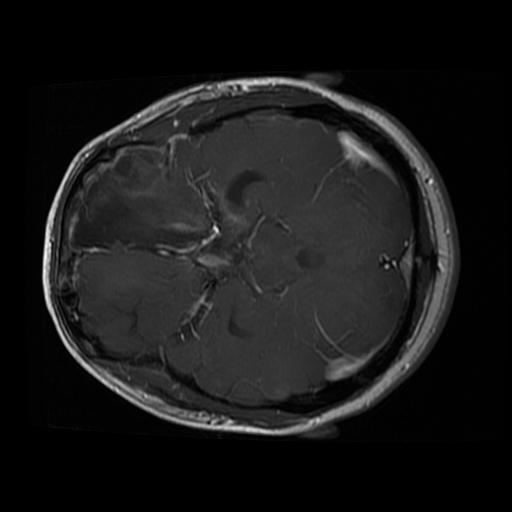glioma: (71, 145, 211, 251)
